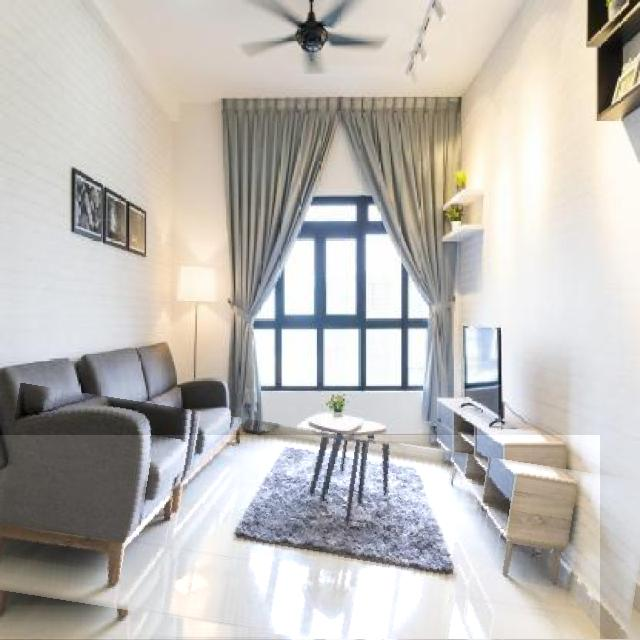floor: (0, 436, 600, 640)
